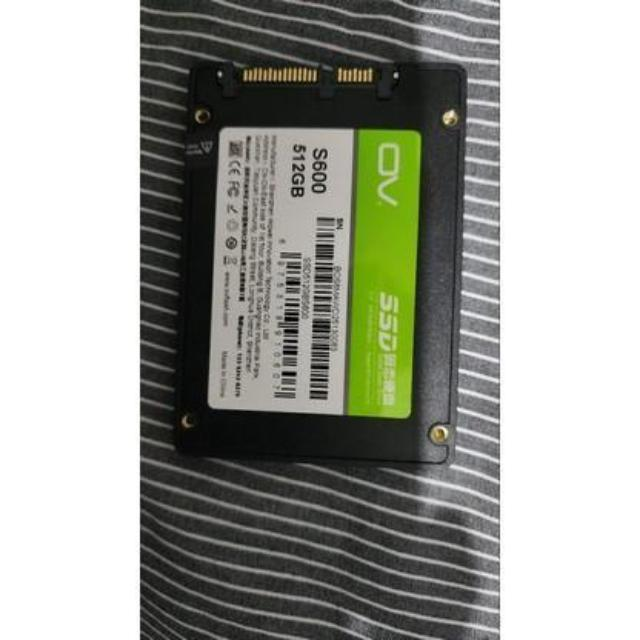DISK: (170, 51, 468, 472)
